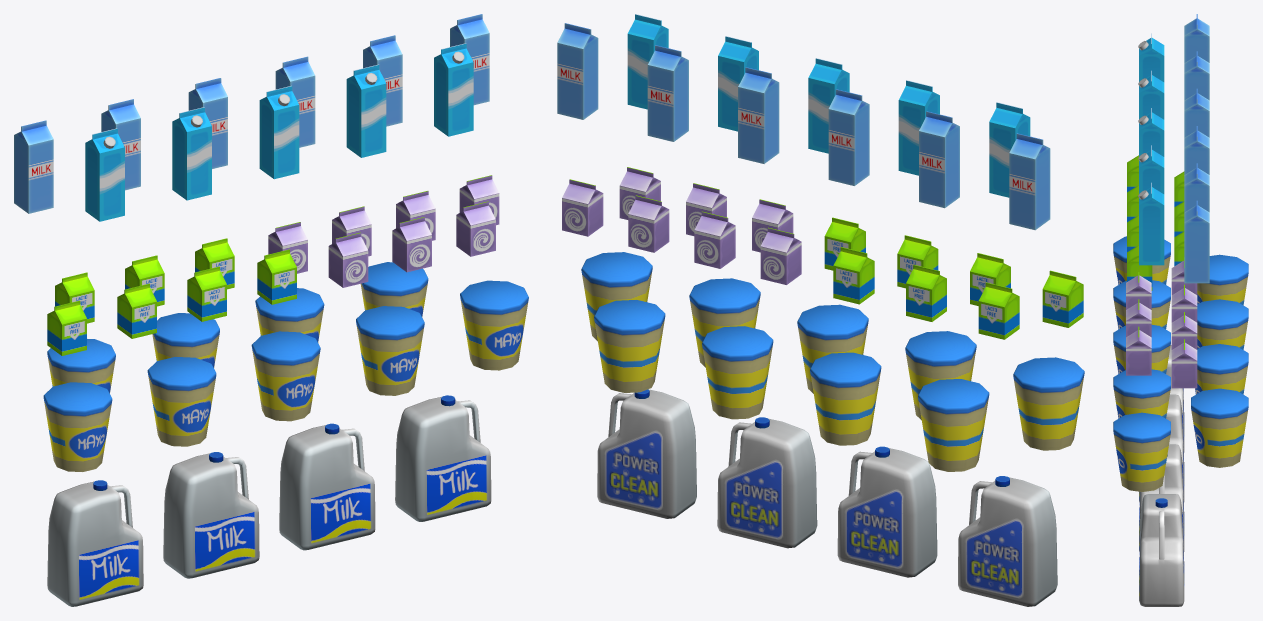
The model's file is CommFoodStuff01_4.FBX.
3 renders of one model, left to right at view 1: azimuth 30°, elevation 25°; view 2: azimuth 150°, elevation 25°; view 3: azimuth 270°, elevation 25°, orthographic. The views are drawn at different scales.
Visible parts, largest first — view 1: CommFoodStuff01_4; view 2: CommFoodStuff01_4; view 3: CommFoodStuff01_4.
Boxes of the visible parts, <box> form: CommFoodStuff01_4: <box>14,14,528,606</box>; CommFoodStuff01_4: <box>557,14,1084,606</box>; CommFoodStuff01_4: <box>1113,14,1248,606</box>.
Size of what is drawn, in the model's own units: 1.89 by 1.76 by 0.5307.
